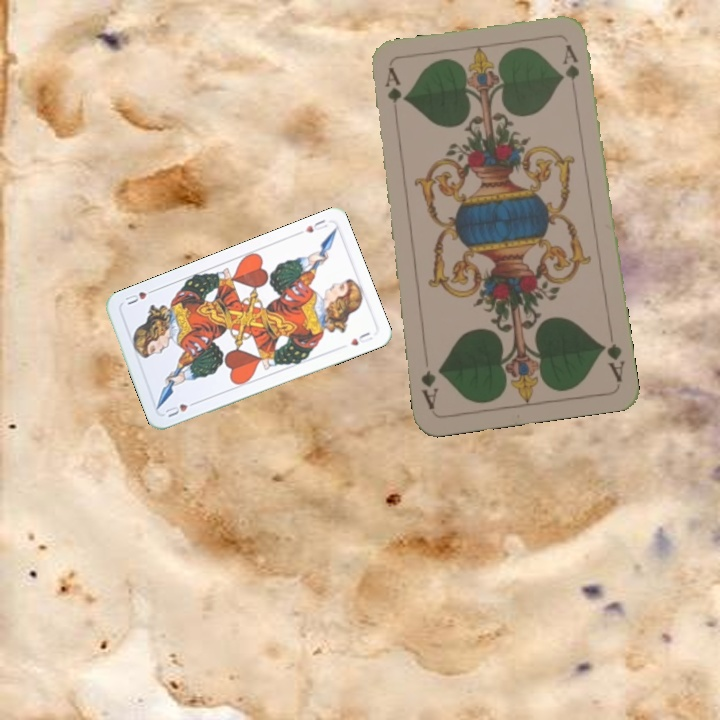GA: (597, 338, 627, 385), (380, 64, 402, 105)
HU: (161, 397, 200, 420), (301, 215, 330, 235)
